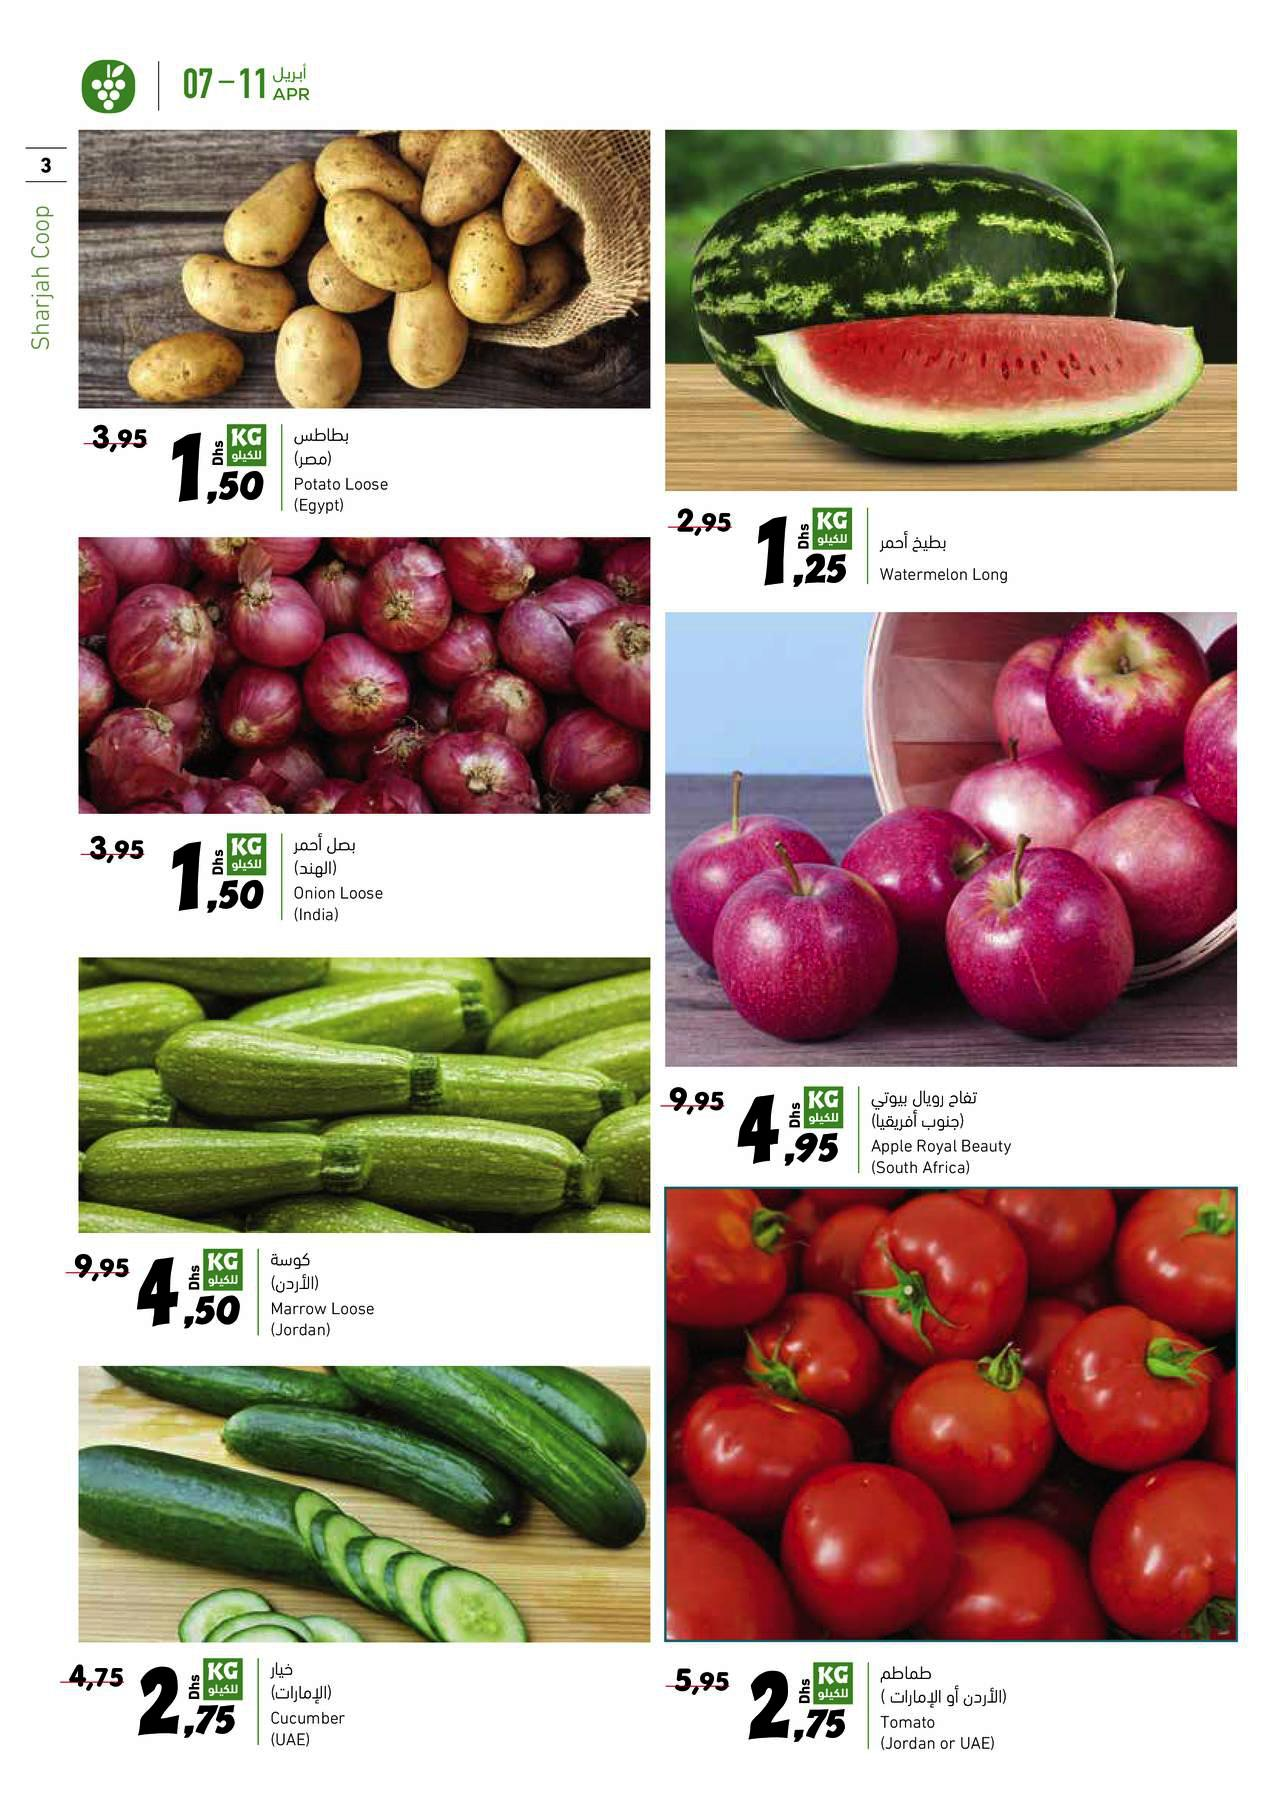text: (865, 1081, 1018, 1182), (872, 1660, 1017, 1761), (265, 1246, 391, 1346), (287, 421, 398, 523), (869, 521, 1020, 594), (289, 828, 389, 930), (265, 1655, 360, 1755)
